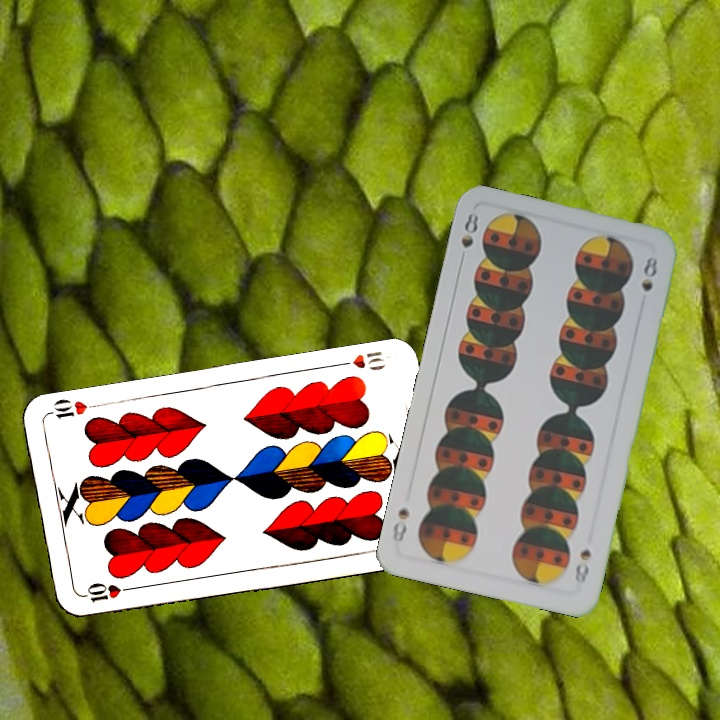H10: (75, 579, 135, 605), (333, 347, 388, 373)
S8: (455, 208, 481, 267), (570, 545, 594, 588)
